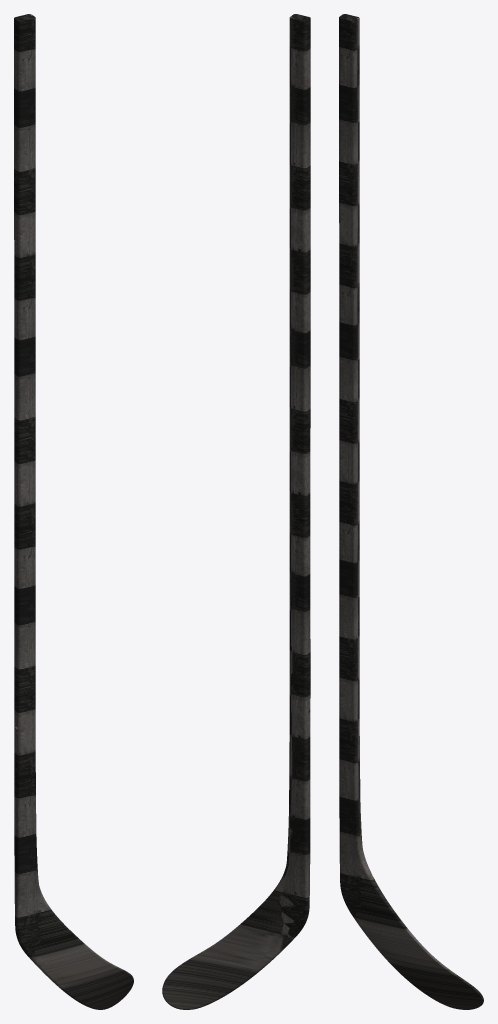
3 renders of one model, left to right at view 1: azimuth 30°, elevation 25°; view 2: azimuth 150°, elevation 25°; view 3: azimuth 330°, elevation 25°, orthographic. The views are drawn at different scales.
Visible parts, largest first — view 1: geometry_0; view 2: geometry_0; view 3: geometry_0.
Boxes of the visible parts, x1,y1,x2,y2 form: geometry_0: (14, 14, 133, 1009); geometry_0: (162, 14, 310, 1009); geometry_0: (339, 14, 483, 1009).
Bounding box in the file's own units: 224 × 1650 × 65.71.
1 material, 1 textured.
